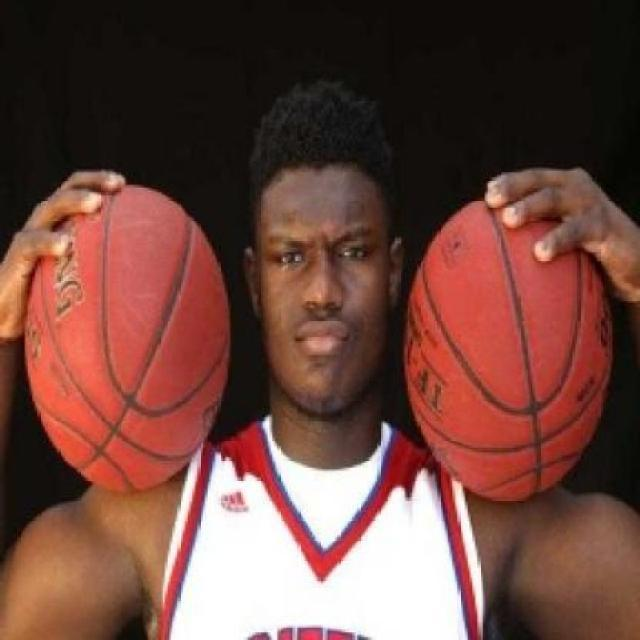basketball: (19, 174, 242, 502), (397, 180, 619, 508)
